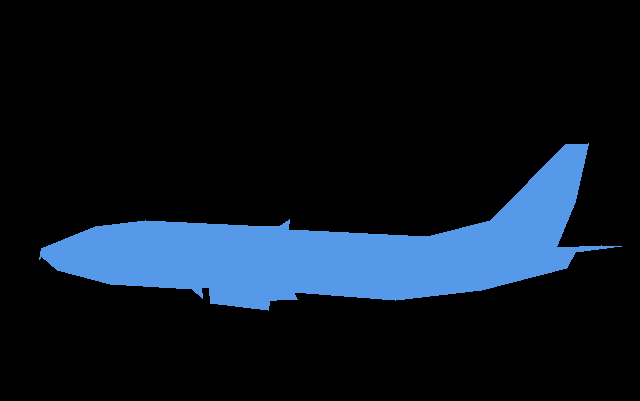Airplane: (39, 143, 622, 311)
